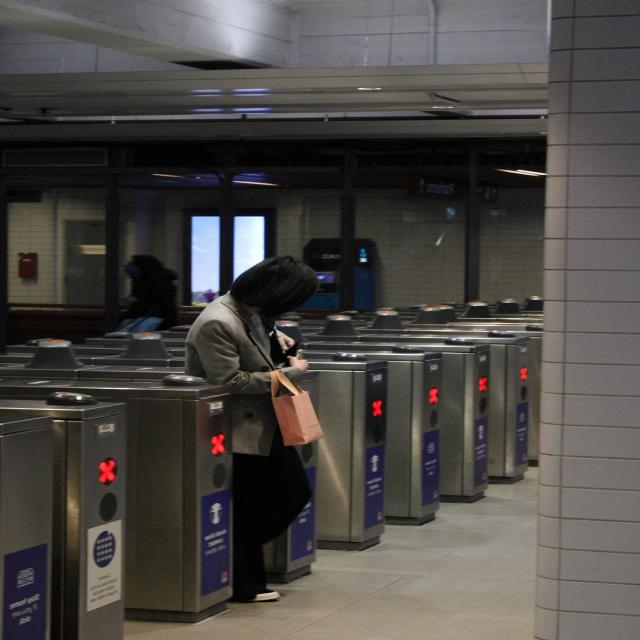adult: (187, 252, 328, 606)
